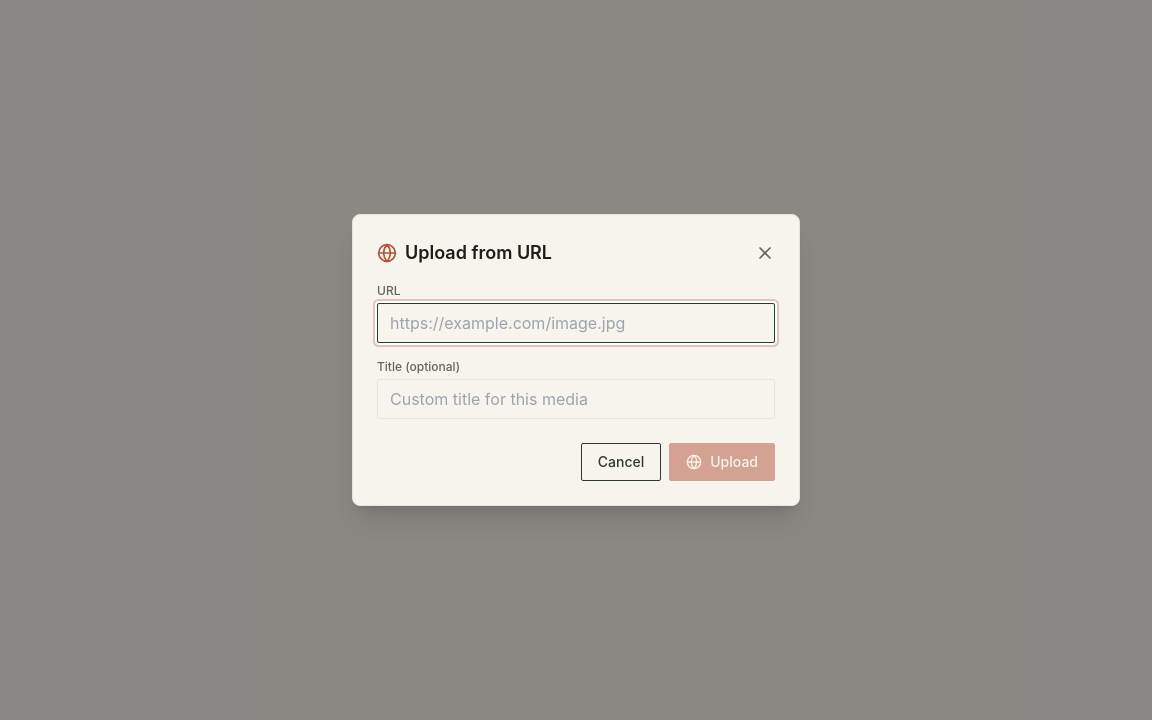
Scenario: UploadFromUrlModal › enables Upload button when URL starts with https://
The image size is (1152, 720).
Type "https://example.com/photo.jpg" into the field with placeholder "https://example.com/image.jpg". click: (576, 323)
box: top-left (377, 303), bottom-right (775, 343)
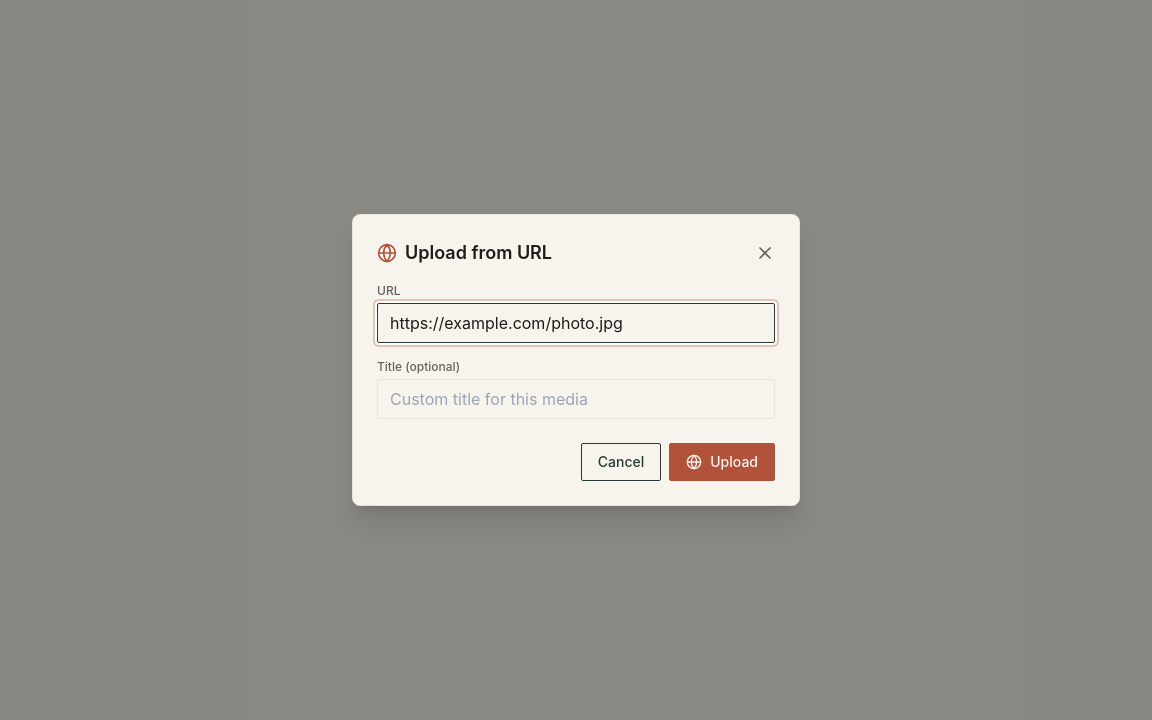
Check: the button "Upload" is enabled, box top-left (669, 443), bottom-right (775, 481)
